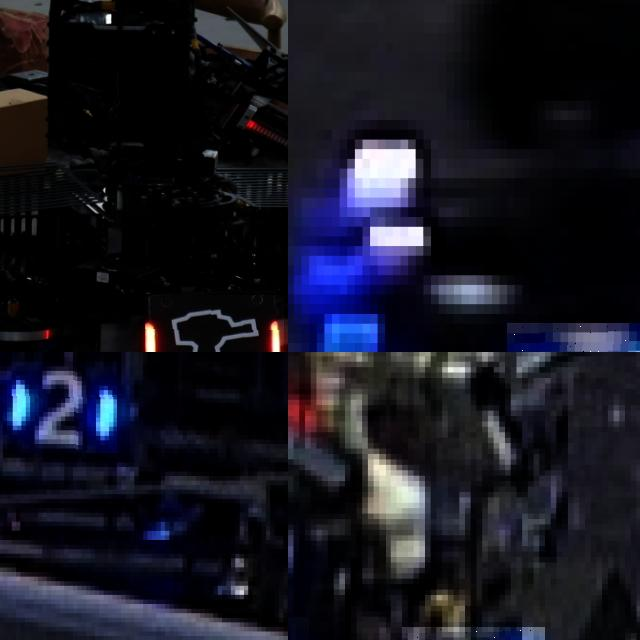B2: (7, 362, 117, 453)
Rs: (145, 295, 285, 352)
